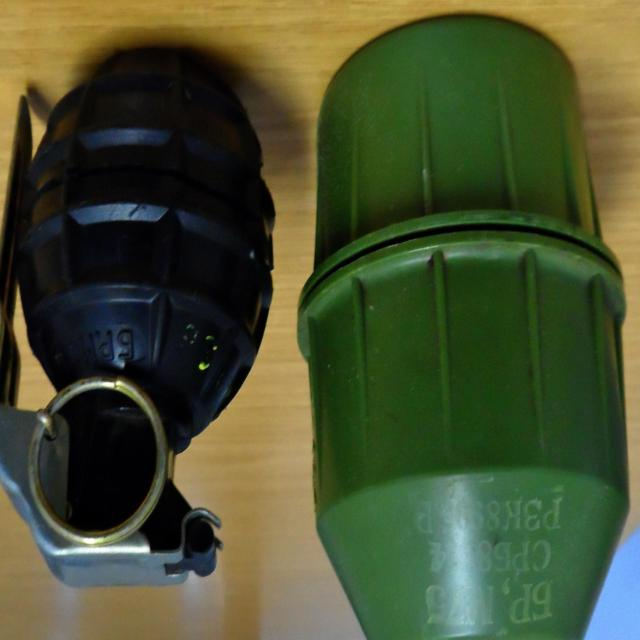grenade: (298, 16, 631, 640), (2, 49, 277, 591)
